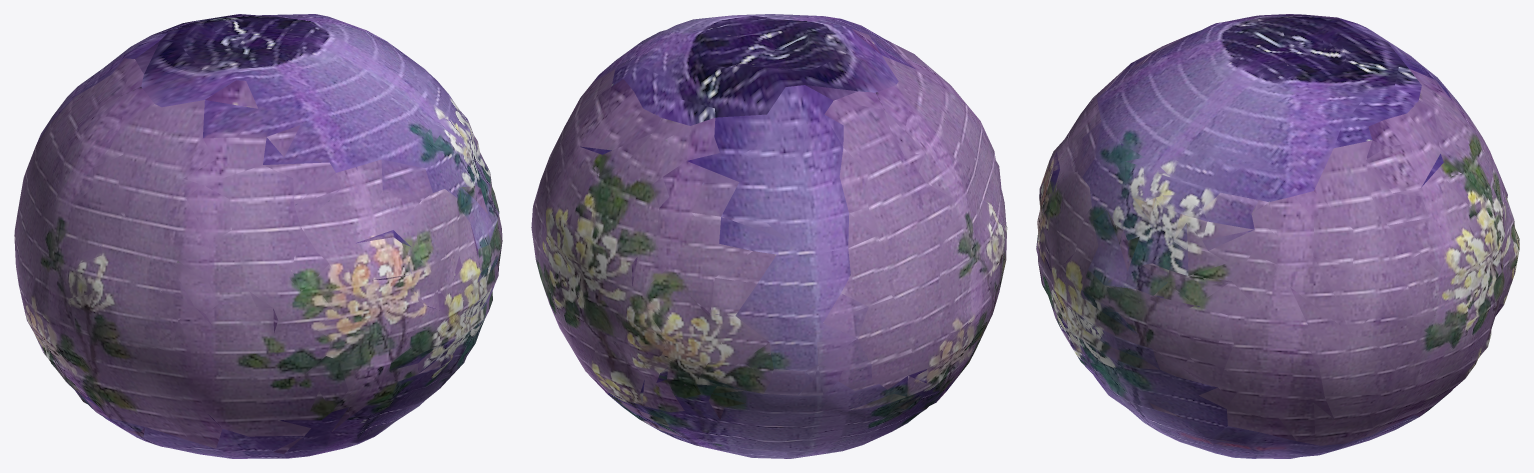
The model's file is At6 Felix Chystanthemum.glb.
3 renders of one model, left to right at view 1: azimuth 30°, elevation 25°; view 2: azimuth 150°, elevation 25°; view 3: azimuth 270°, elevation 25°, orthographic.
Size of the model in its own units: 981 by 891 by 1000.
Materials: 1 (1 with a texture image).
